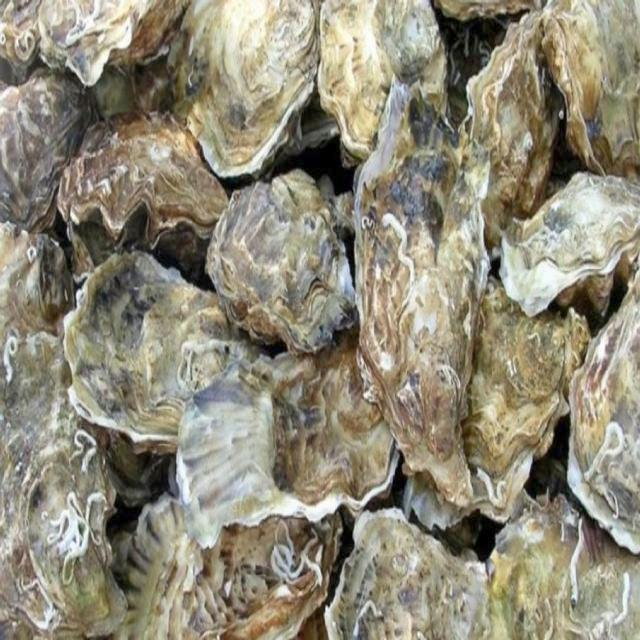Oyster-Closed: (356, 82, 489, 434), (0, 329, 125, 640), (64, 251, 254, 449), (119, 496, 341, 640), (206, 170, 354, 352), (172, 0, 318, 178), (464, 280, 589, 479), (176, 360, 304, 548), (58, 114, 228, 248), (488, 496, 640, 639), (568, 256, 640, 553), (325, 510, 488, 639), (271, 336, 395, 505), (318, 0, 446, 159), (501, 174, 639, 316), (468, 11, 556, 227), (542, 0, 640, 179), (0, 70, 89, 231), (0, 222, 72, 334)
